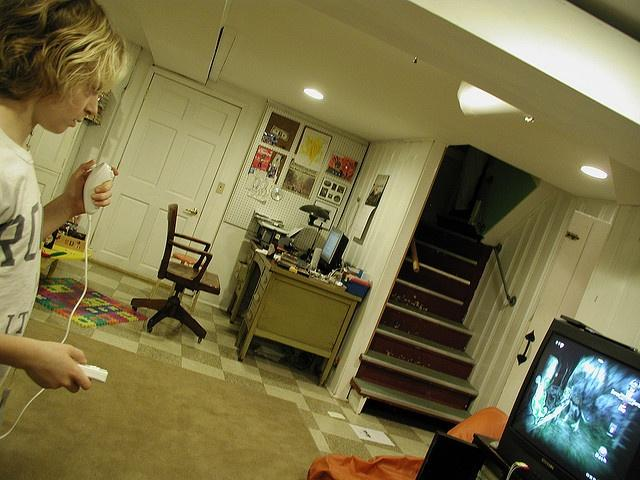AIO PC-Monitor-TV: (493, 316, 639, 479)
Kursi: (129, 202, 221, 344)
